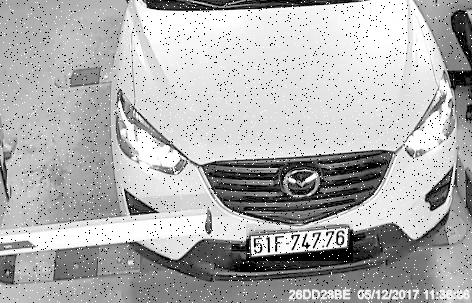License-plate: (248, 226, 356, 264)
